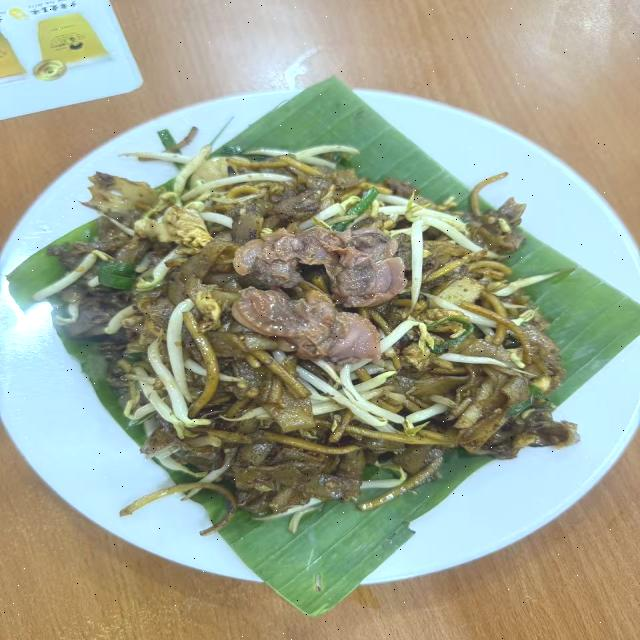Char Kway Teow: (51, 116, 587, 522)
